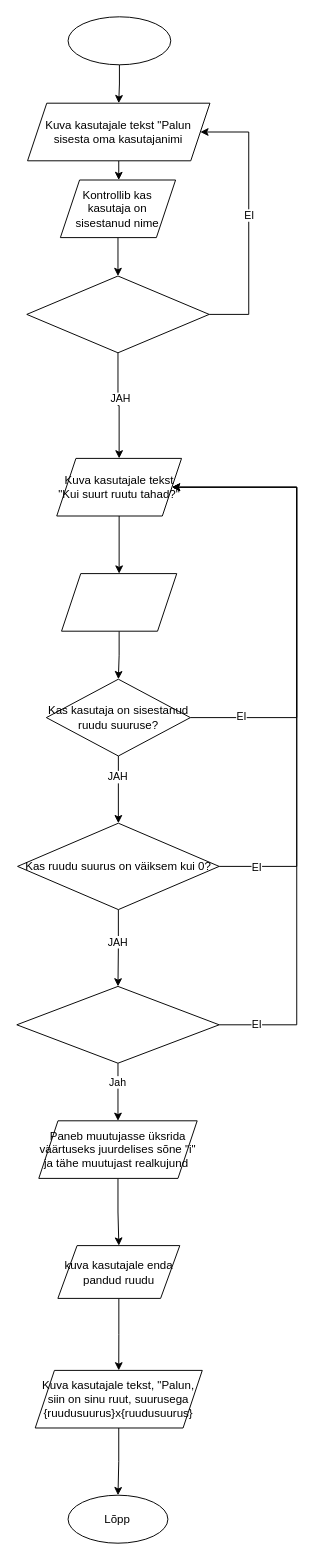
The diagram is 322 pixels wide and 1560 high, and some of its shapes have lost their labels. Here are the shapes that lost their labels. From the top down, the centre of each, then its label:
pixel 119 40: Algus
pixel 117 314: Kas kasutaja on sisestanud "user1"?
pixel 119 602: Kontrollib kas kasutaja on lisanud arvu
pixel 117 1024: Kas ruudu suurus on suurem kui 20?
